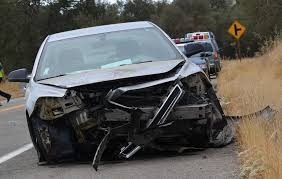Smashed: (26, 61, 231, 158)
